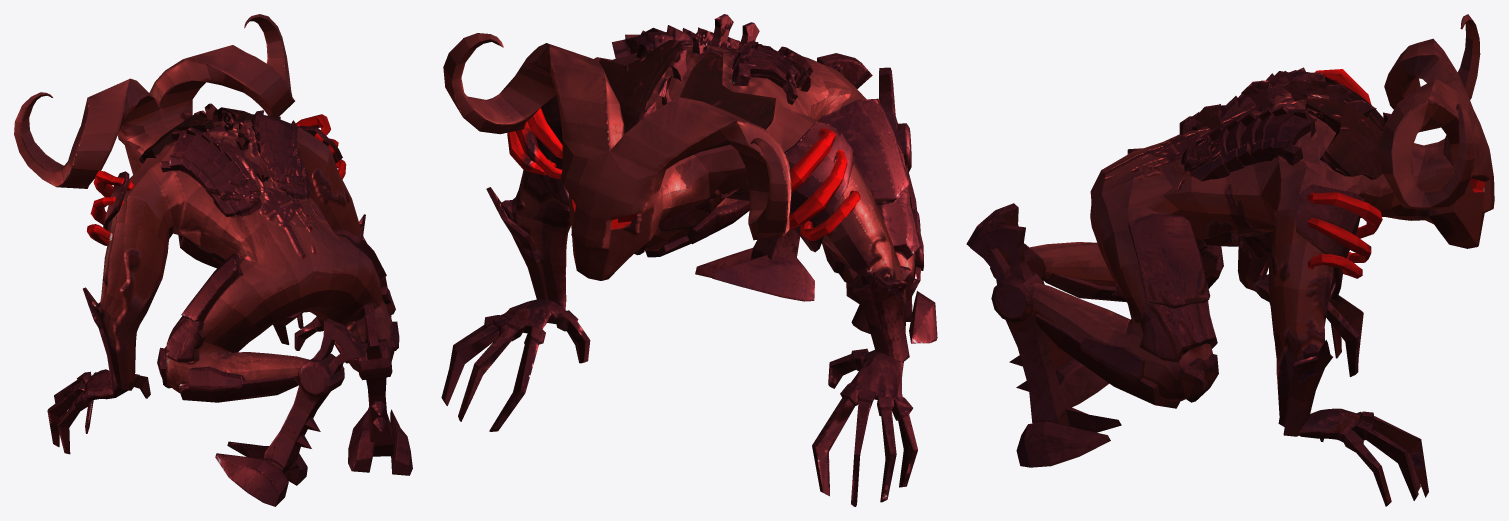
3 views of the same model, side by side, from view 1: azimuth 30°, elevation 25°; view 2: azimuth 150°, elevation 25°; view 3: azimuth 270°, elevation 25° (orthographic). The views are drawn at different scales.
Visible parts, largest first — view 1: Demon_LOW_Plane.002; view 2: Demon_LOW_Plane.002; view 3: Demon_LOW_Plane.002.
Boxes of the visible parts, left/top/right/bottom form: Demon_LOW_Plane.002: left=14, top=14, right=412, bottom=506; Demon_LOW_Plane.002: left=441, top=14, right=937, bottom=506; Demon_LOW_Plane.002: left=966, top=14, right=1494, bottom=506.
Bounding box in the file's own units: 3.76 × 3.73 × 4.48.
